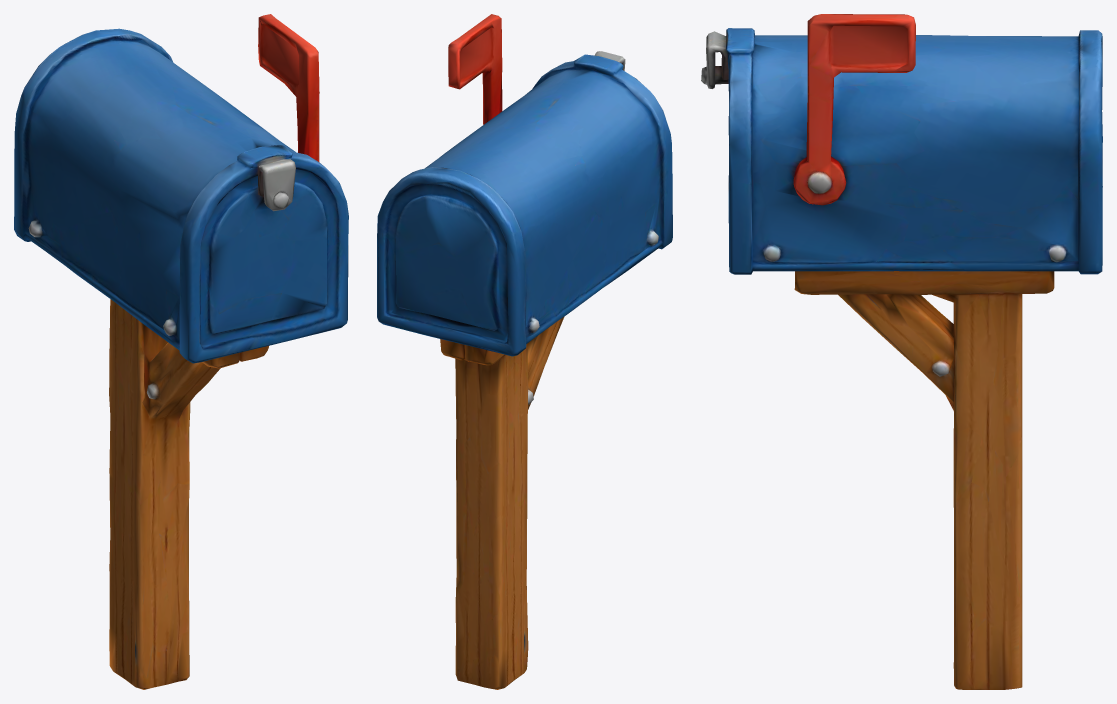
Rendered from mailbox.glb.
3 renders of one model, left to right at view 1: azimuth 30°, elevation 25°; view 2: azimuth 150°, elevation 25°; view 3: azimuth 270°, elevation 25°, orthographic. The views are drawn at different scales.
Visible parts, largest first — view 1: mailbox-node; view 2: mailbox-node; view 3: mailbox-node.
Boxes of the visible parts, <box> form: mailbox-node: <box>14,14,348,689</box>; mailbox-node: <box>377,14,672,689</box>; mailbox-node: <box>701,14,1102,689</box>.
Size of the model in its own units: 0.2774 by 1 by 0.5186.
1 material, 1 textured.
